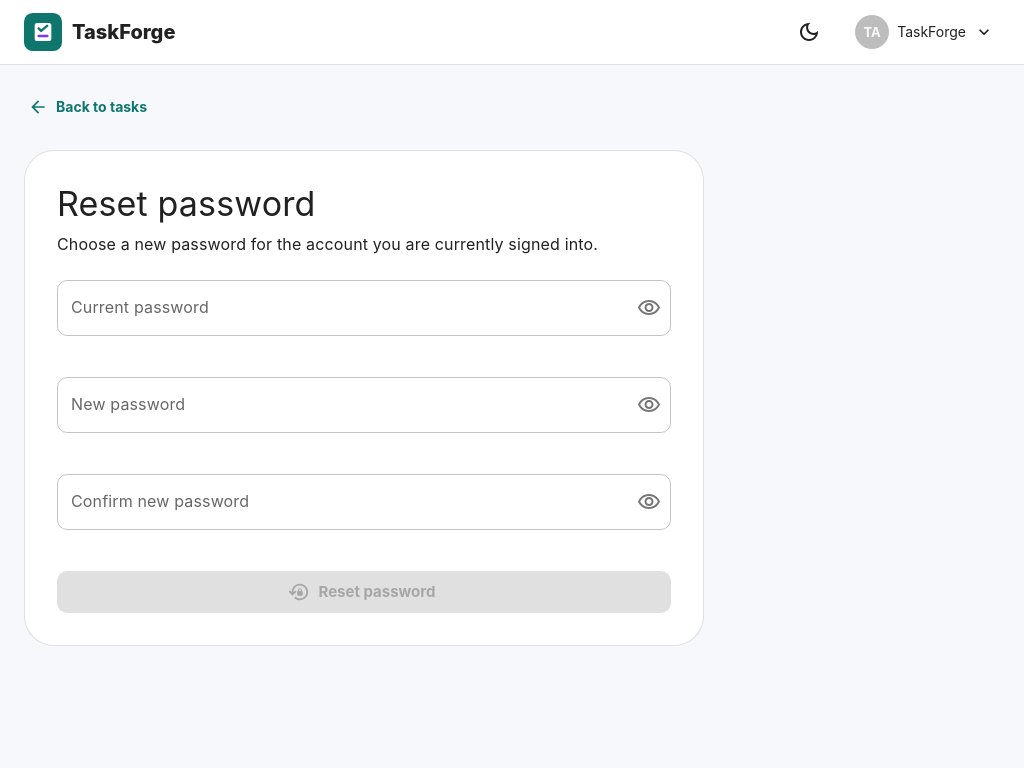
Test: ResetPasswordPage › keeps submit disabled until the password reset form is valid
Expected: the button "Reset password" is disabled, [57,571,671,614]
Type "TaskForge123" into the password field labelled "Current password" at (339, 308), box [57,280,621,336]
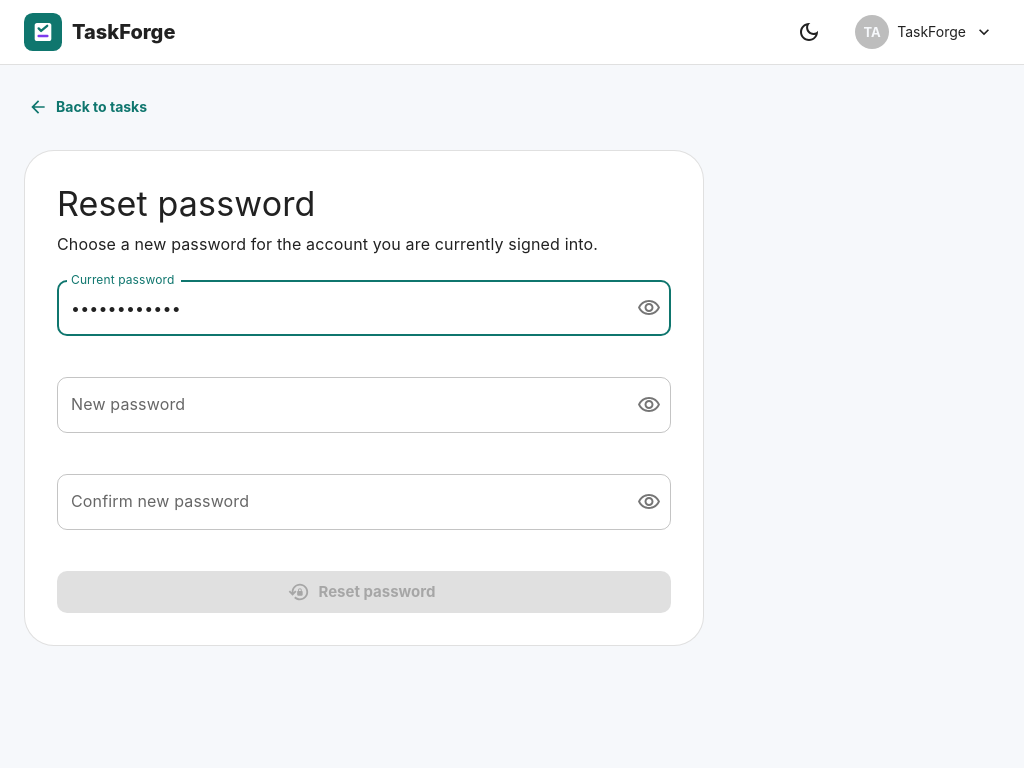
Type "TaskForge124" into the password field labelled "New password" at (339, 405), box [57,377,621,433]
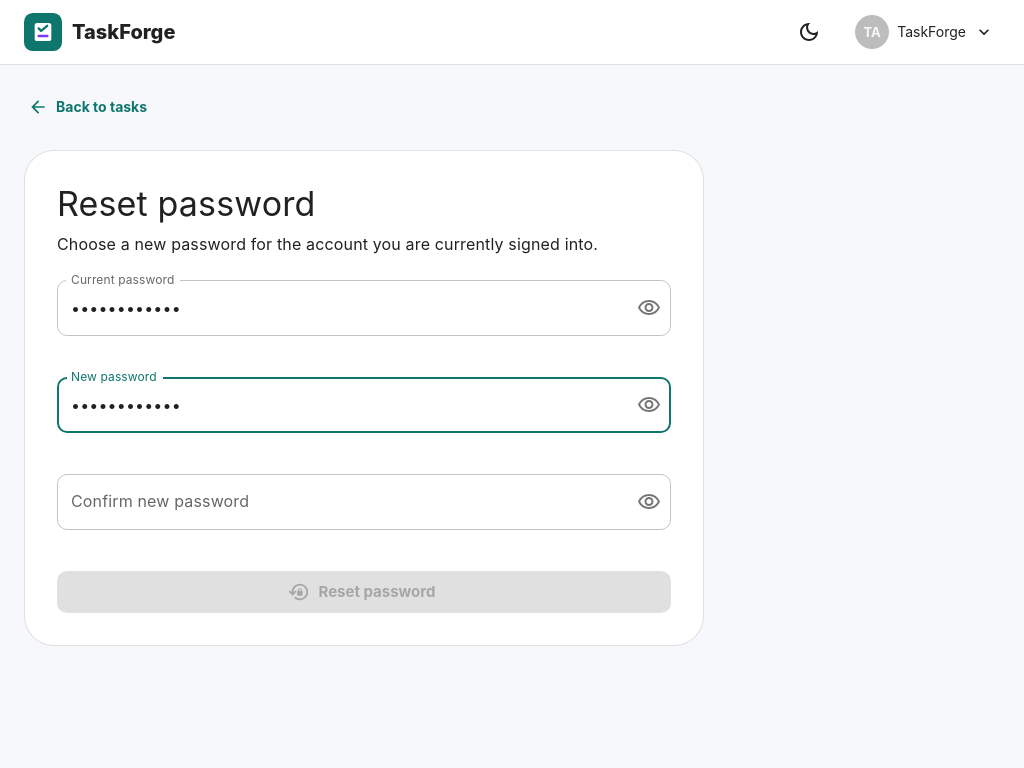
Type "TaskForge124" into the password field labelled "Confirm new password" at (339, 502), box [57,474,621,530]
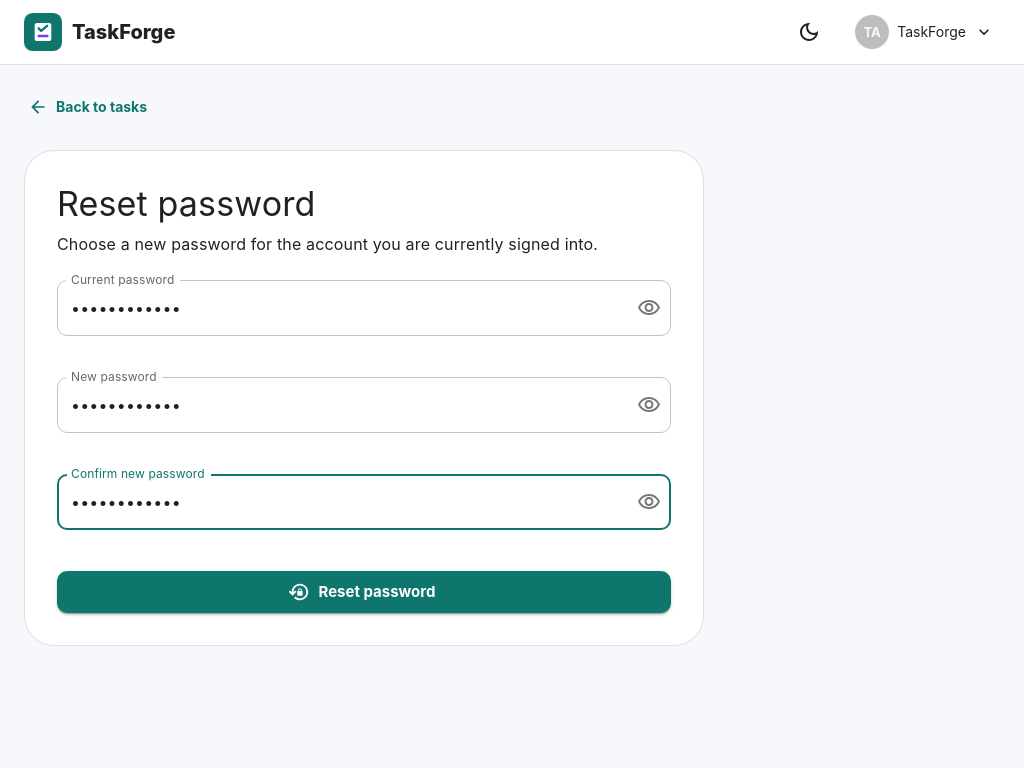
Expected: the button "Reset password" is enabled, [57,571,671,614]
